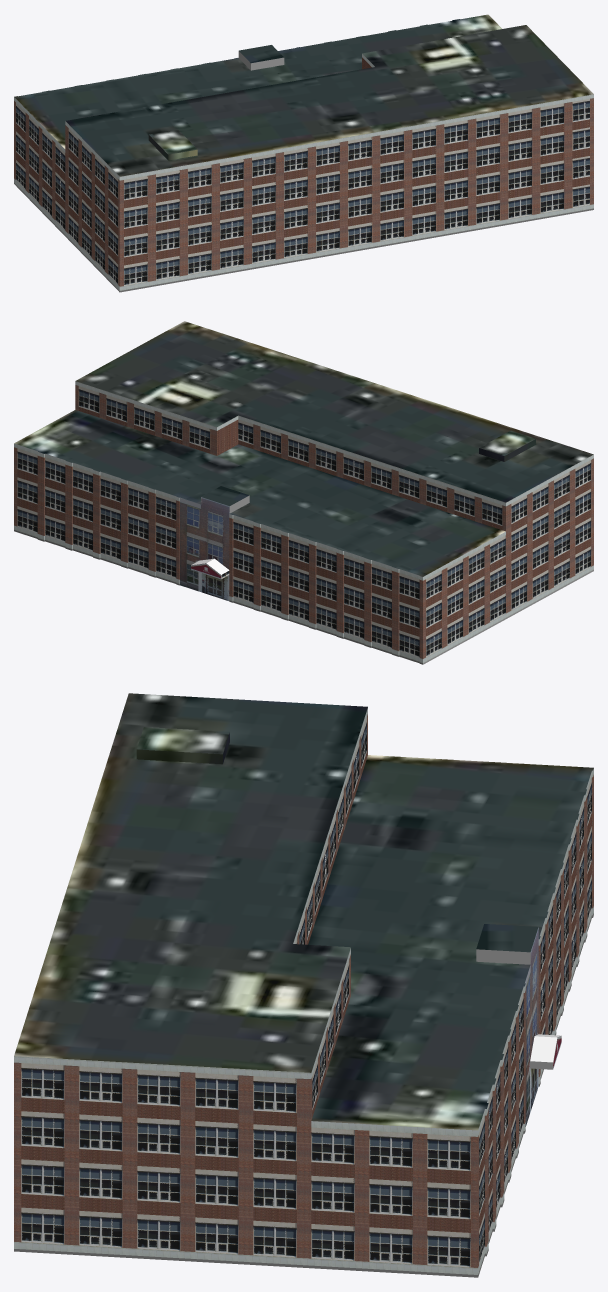
Rendered from ryder hall.dae.
3 renders of one model, top to bottom at view 1: azimuth 30°, elevation 25°; view 2: azimuth 150°, elevation 25°; view 3: azimuth 270°, elevation 25°, orthographic. The views are drawn at different scales.
Visible parts, largest first — view 1: skp85EF (×88); view 2: skp85EF (×41); view 3: skp85EF (×47).
Boxes of the visible parts, <box> form: skp85EF (×88): <box>14,14,593,292</box>; skp85EF (×41): <box>14,321,593,662</box>; skp85EF (×47): <box>14,693,593,1277</box>.
Size of the model in its own units: 3019 by 1902 by 743.
9 materials, 6 textured.
